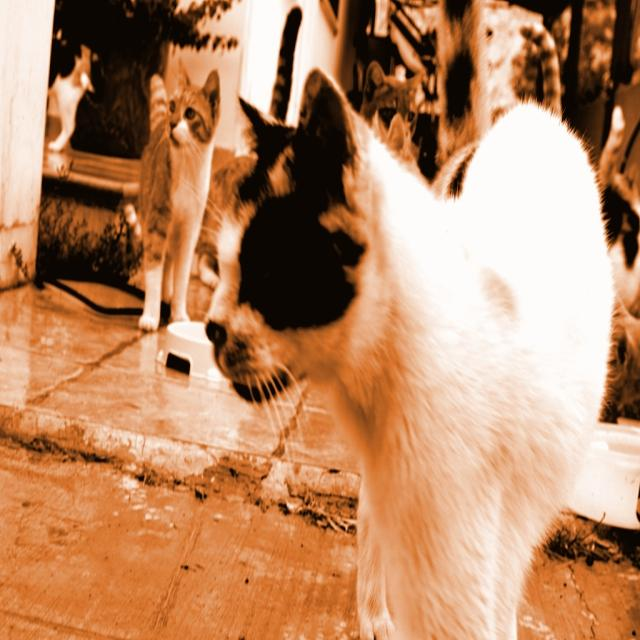Cat: (201, 68, 611, 638), (135, 61, 220, 336)
